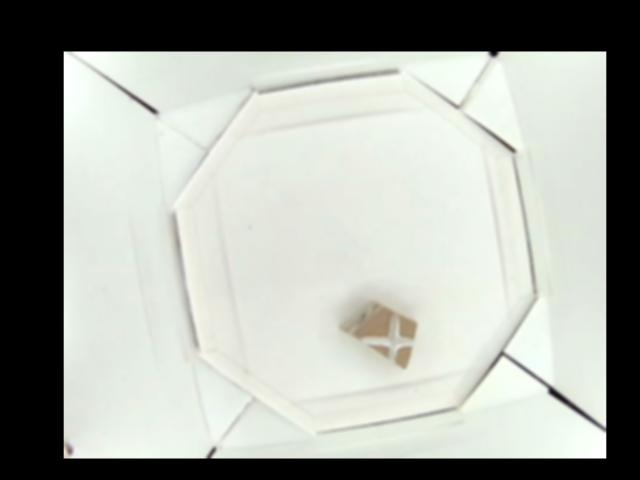China: (340, 300, 418, 368)
